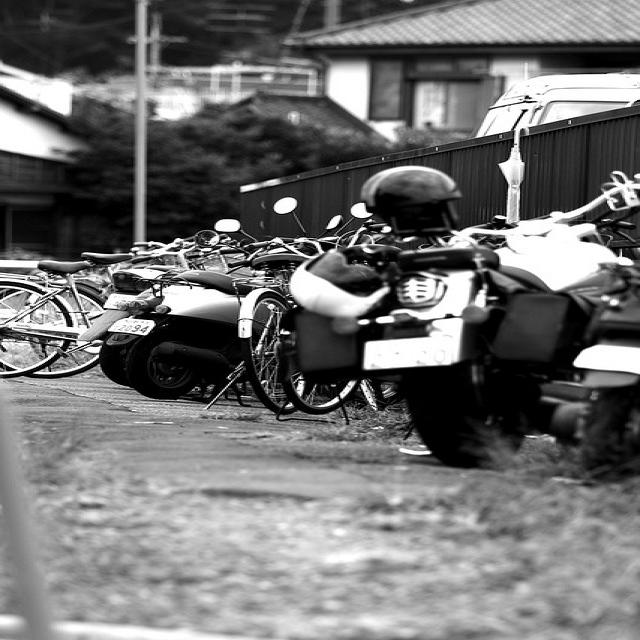motor: (361, 173, 640, 473), (537, 252, 640, 483), (128, 271, 257, 402), (69, 268, 169, 390)
